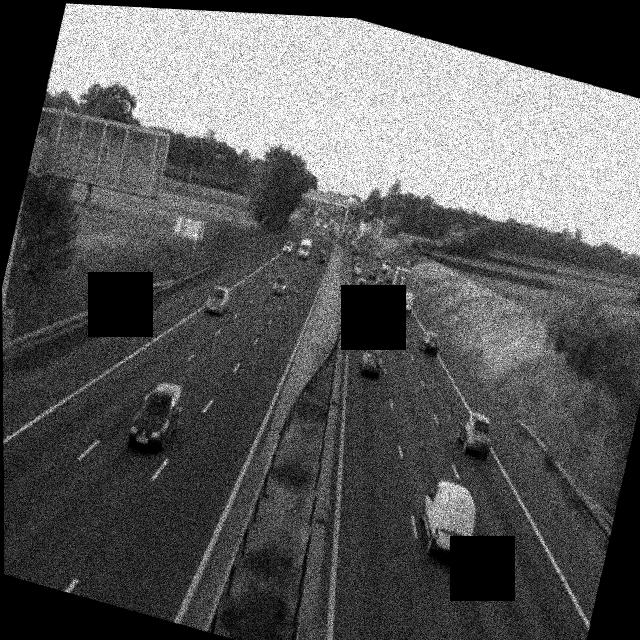car: (414, 475, 484, 563), (125, 373, 187, 459), (453, 408, 497, 461), (358, 343, 386, 379), (204, 282, 232, 317), (419, 327, 442, 355), (270, 271, 290, 297), (398, 290, 416, 314), (376, 289, 394, 312), (354, 274, 370, 295), (370, 273, 383, 291), (281, 237, 294, 254), (352, 260, 363, 275), (316, 249, 327, 264), (349, 244, 359, 258)
truck: (390, 268, 410, 297)
